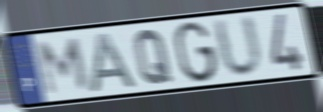4: (270, 11, 306, 74)
A: (88, 30, 141, 94)
G: (173, 19, 220, 85)
M: (37, 36, 92, 98)
Q: (132, 27, 174, 87)
U: (210, 12, 266, 81)
